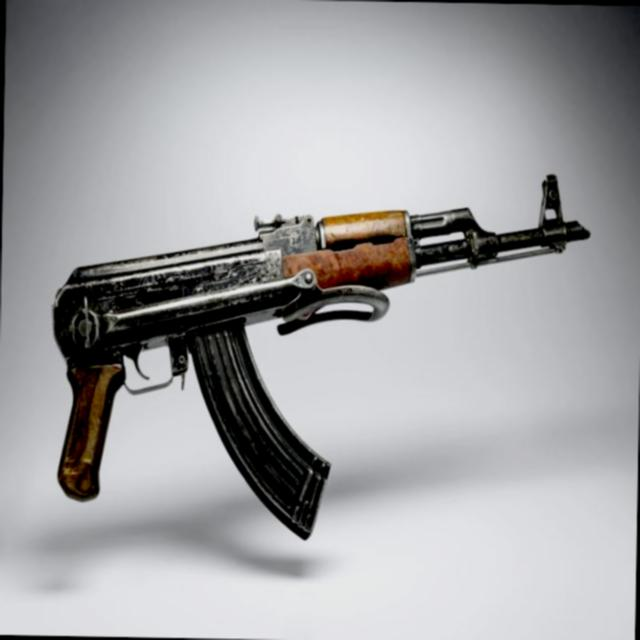ax: (46, 158, 590, 545)
